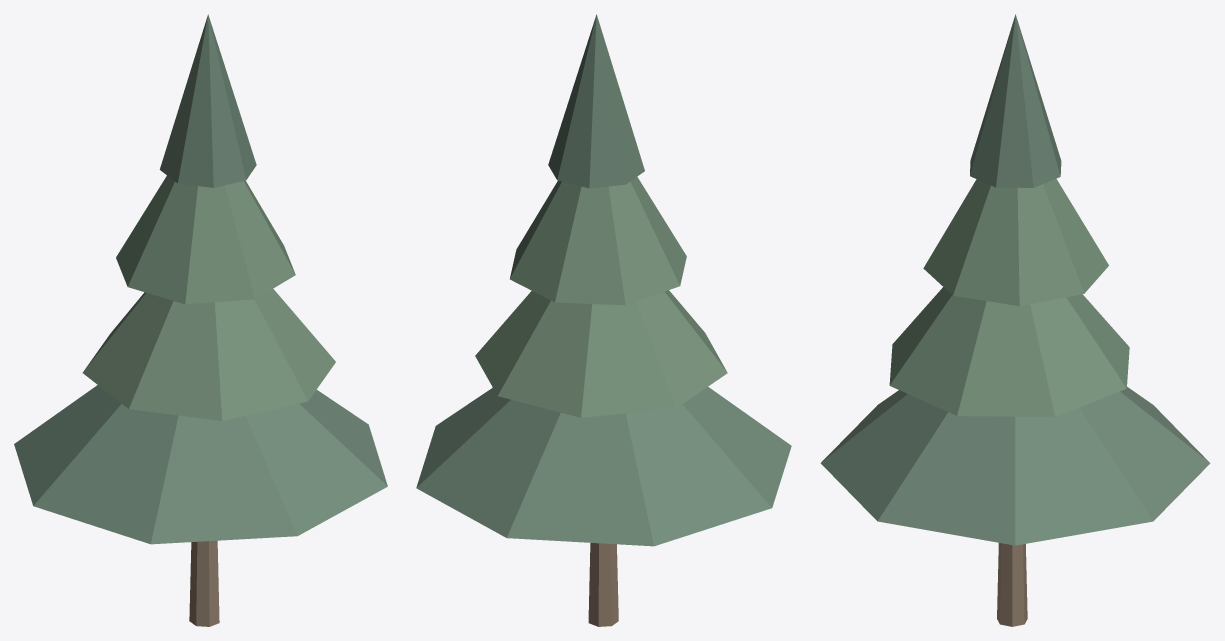
The model's file is node_tree_0.glb.
3 views of the same model, side by side, from view 1: azimuth 30°, elevation 25°; view 2: azimuth 150°, elevation 25°; view 3: azimuth 270°, elevation 25° (orthographic).
Visible parts, largest first — view 1: node_tree_0; view 2: node_tree_0; view 3: node_tree_0.
Part boxes in pixels (left/top/right/bottom): node_tree_0: left=14, top=14, right=387, bottom=626; node_tree_0: left=416, top=14, right=791, bottom=626; node_tree_0: left=820, top=14, right=1210, bottom=626.
Bounding box in the file's own units: 5.44 × 9.37 × 5.44.
